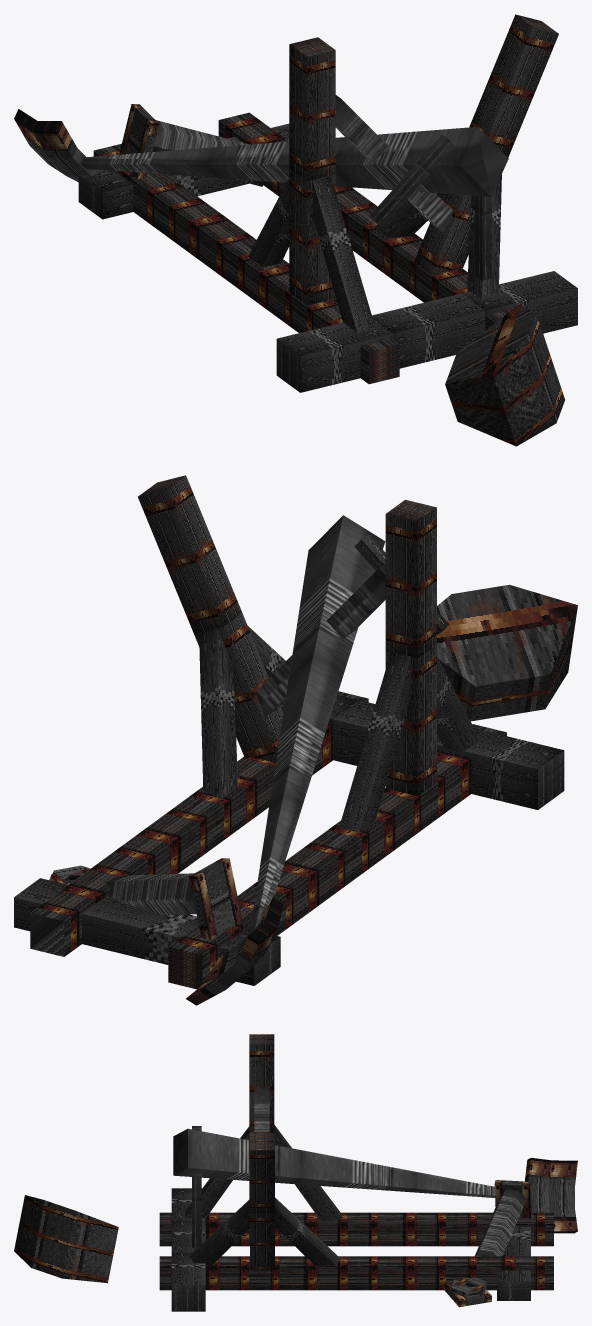
Rendered from TrebDam2.fbx.
3 views of the same model, one above another, from view 1: azimuth 30°, elevation 25°; view 2: azimuth 150°, elevation 25°; view 3: azimuth 270°, elevation 25° (orthographic). The views are drawn at different scales.
Visible parts, largest first — view 1: TREBDAM2; view 2: TREBDAM2; view 3: TREBDAM2.
Boxes of the visible parts, left/top/right/bottom form: TREBDAM2: left=14, top=14, right=577, bottom=446; TREBDAM2: left=14, top=475, right=577, bottom=1005; TREBDAM2: left=14, top=1034, right=577, bottom=1311.
Size of the model in its own units: 20.66 by 17.49 by 44.17.
